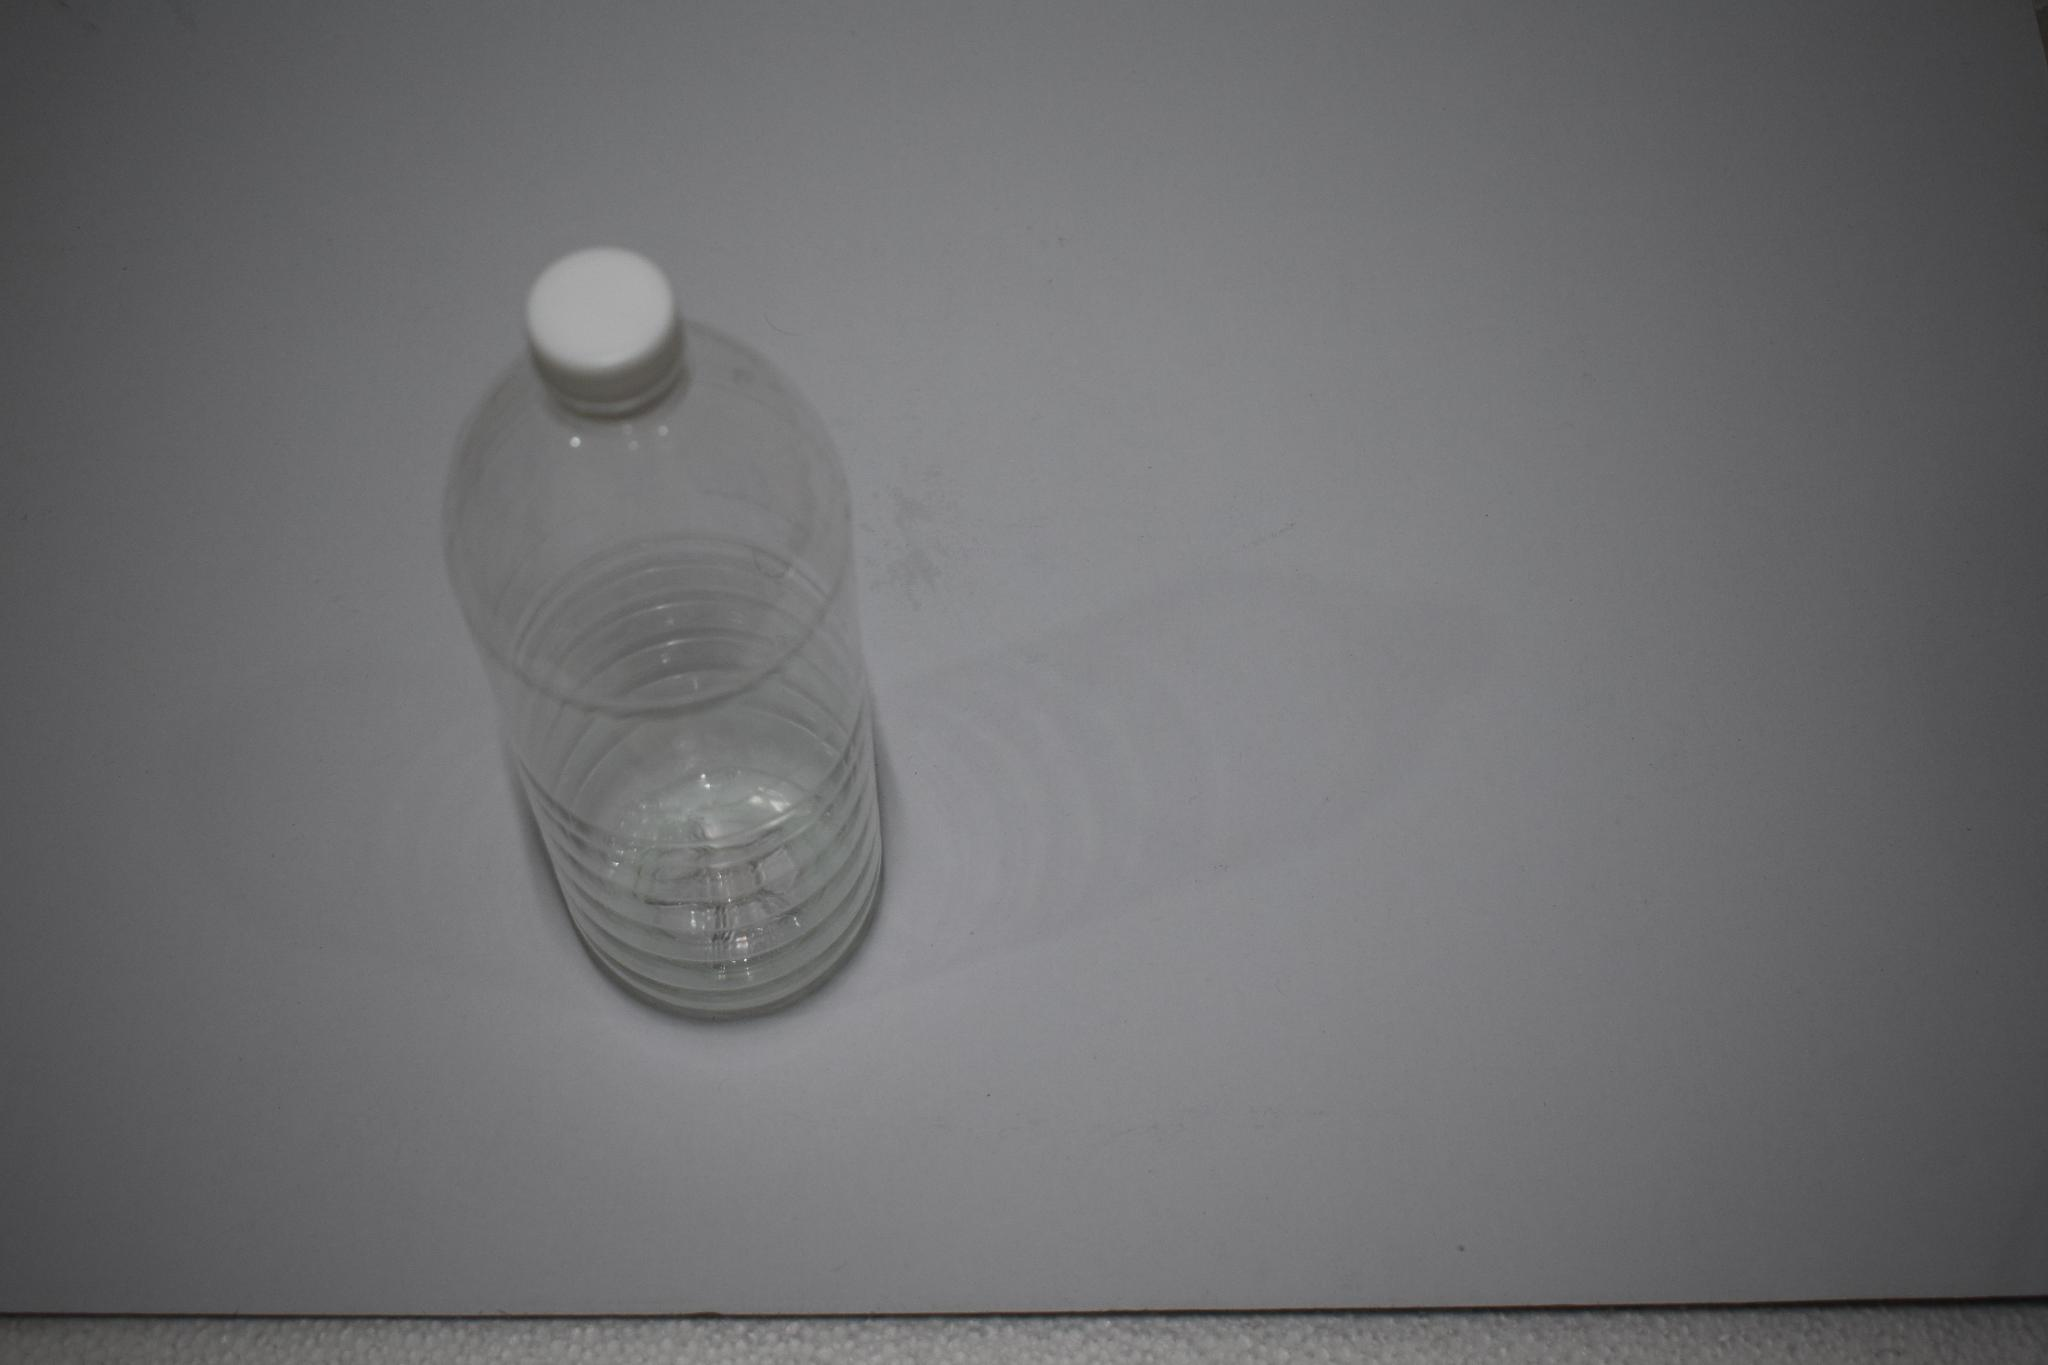bottle: (410, 241, 917, 1031)
